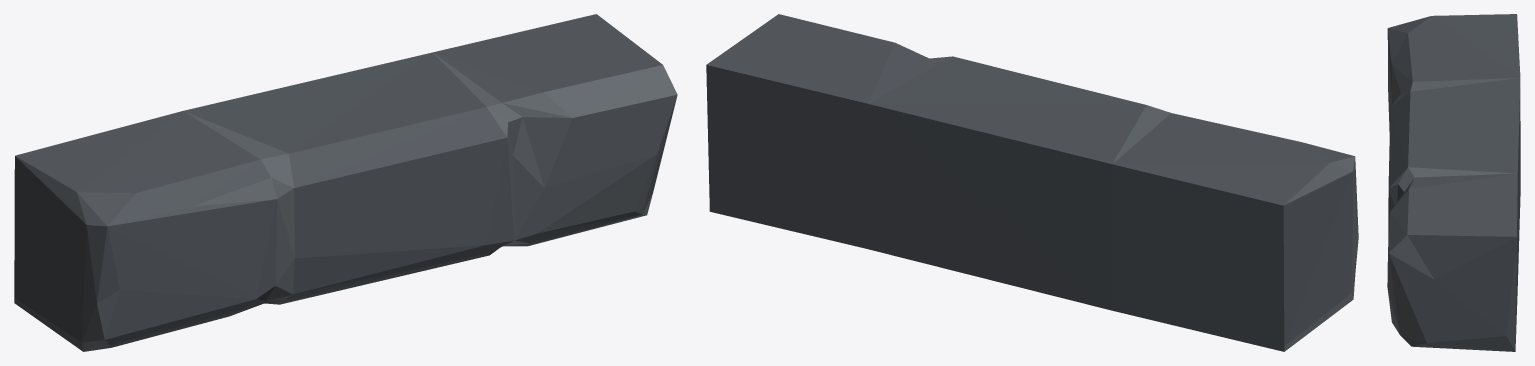
File: MCastle_Masonry_Trim_00.FBX
The picture shows the model from 3 angles, left to right: view 1: azimuth 30°, elevation 25°; view 2: azimuth 150°, elevation 25°; view 3: azimuth 270°, elevation 25°; orthographic projection. The views are drawn at different scales.
Parts seen in each view (by area): view 1: MCastle_Masonry_Trim_00_LOD0; view 2: MCastle_Masonry_Trim_00_LOD0; view 3: MCastle_Masonry_Trim_00_LOD0.
Boxes of the visible parts, box(x1,y1,x2,y2) form: MCastle_Masonry_Trim_00_LOD0: box(14, 14, 677, 351); MCastle_Masonry_Trim_00_LOD0: box(706, 14, 1358, 351); MCastle_Masonry_Trim_00_LOD0: box(1387, 14, 1520, 351).
Size of what is drawn, in the model's own units: 4.07 by 1 by 1.03.
